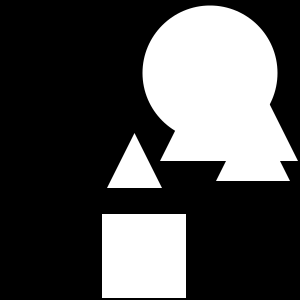circle: (102, 214, 186, 298)
rectangle: (142, 6, 278, 140)
triangle: (160, 23, 298, 161), (216, 107, 290, 181), (107, 133, 162, 188)
